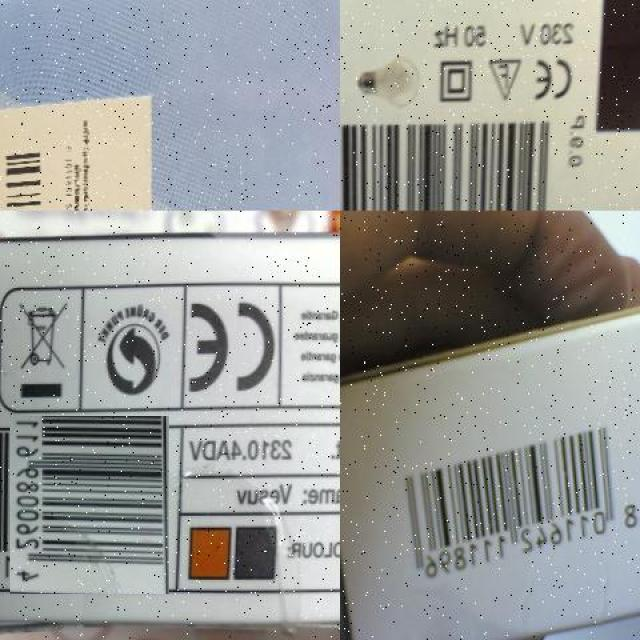Barcode: (372, 391, 640, 604), (5, 420, 174, 589), (340, 114, 563, 210), (0, 130, 59, 210)
